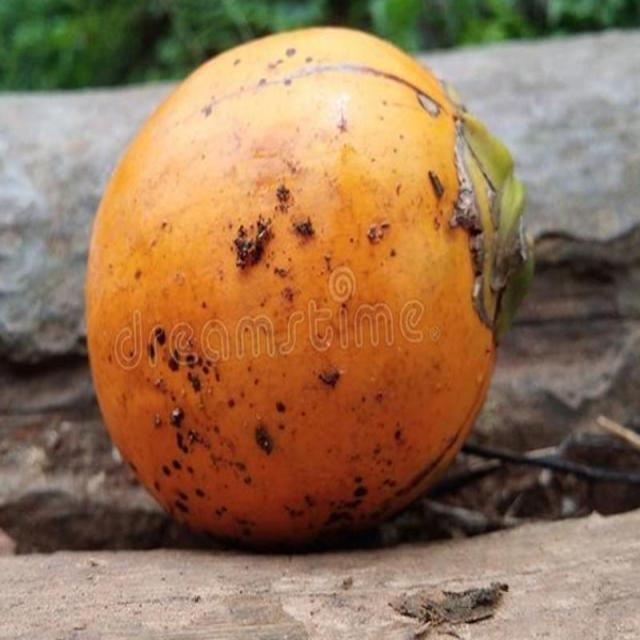good: (83, 28, 532, 555)
